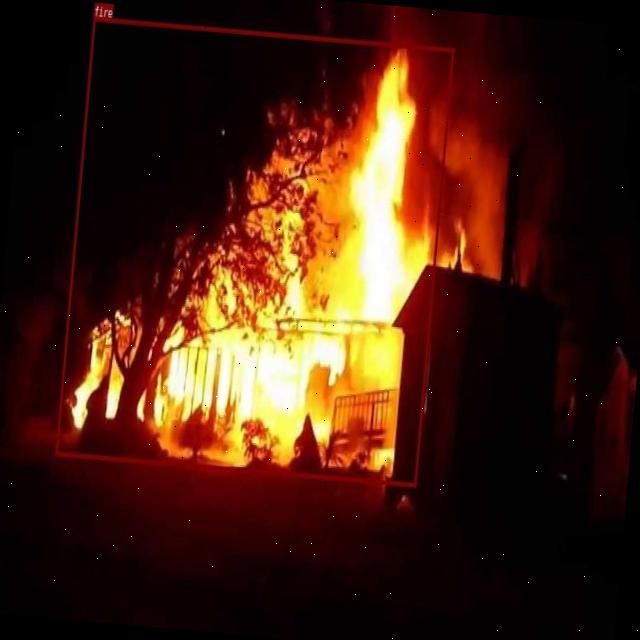fire: (56, 16, 454, 486)
